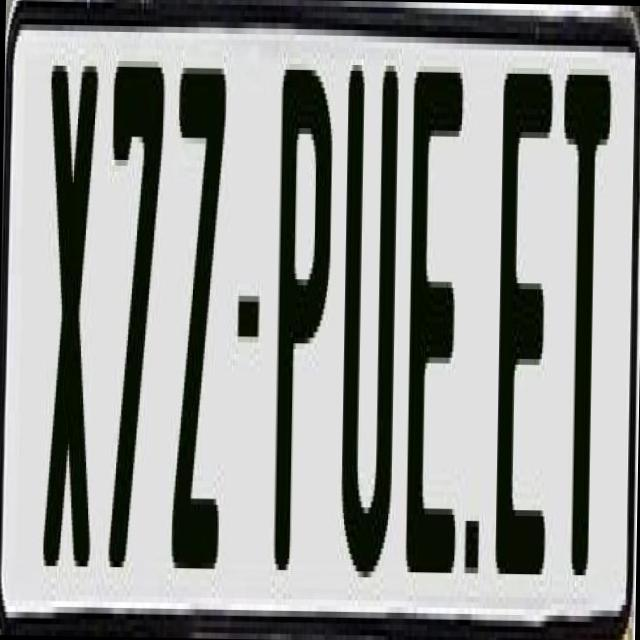7: (104, 54, 172, 574)
E: (493, 55, 555, 586), (404, 53, 462, 556)
P: (273, 57, 336, 582)
T: (553, 62, 608, 599)
U: (337, 47, 403, 566)
X: (42, 58, 102, 590)
Z: (168, 67, 232, 586)
